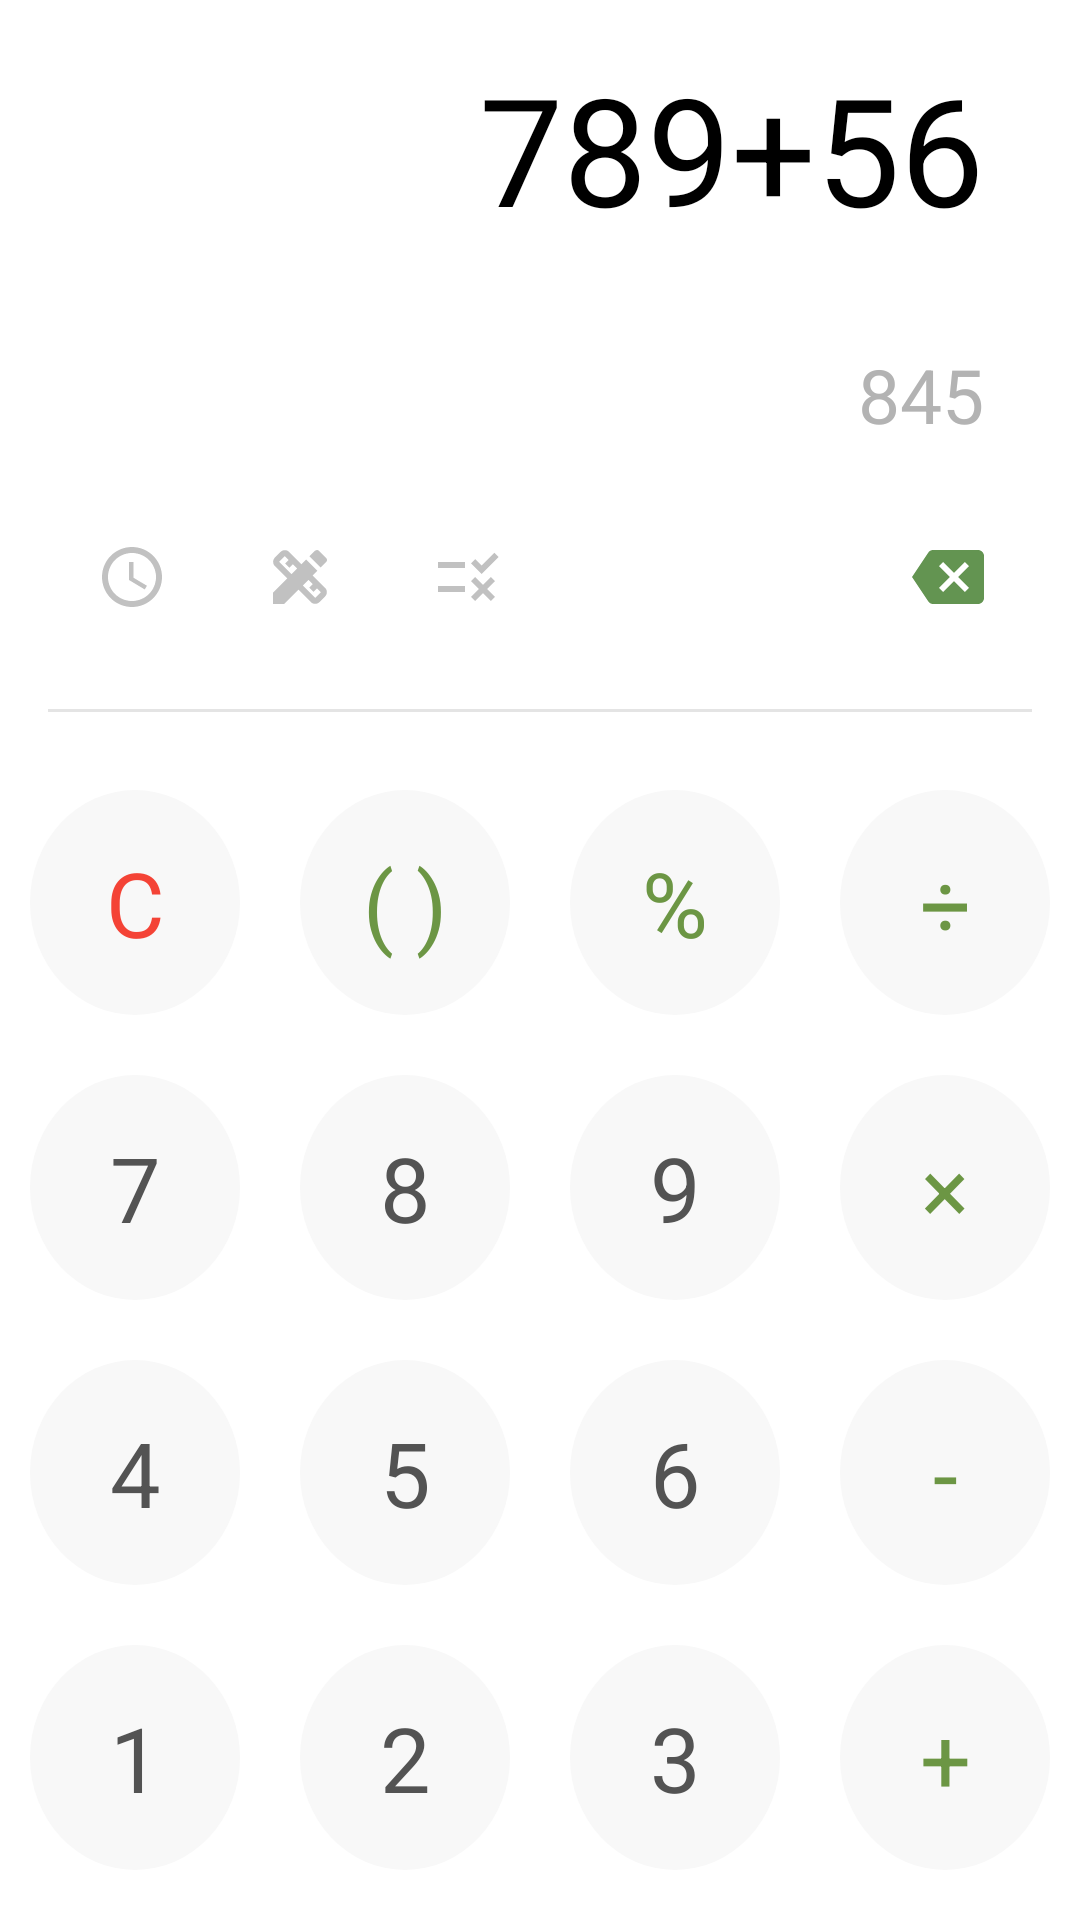

Icon bounding boxes for this 1080px x 1920px phone screenshot, format (x1, y1, x2, y2):
access time: (102, 547, 162, 607)
design services: (273, 550, 327, 604)
rule: (438, 553, 498, 601)
